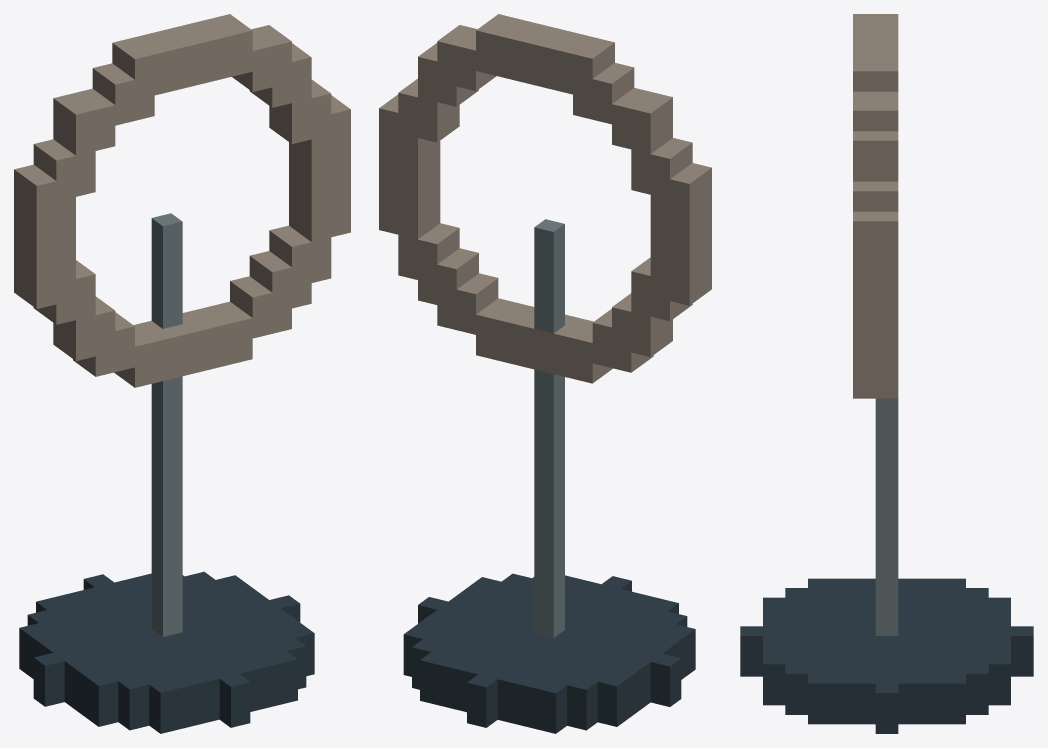
File: photography-14.glb
The picture shows the model from 3 angles, left to right: view 1: azimuth 30°, elevation 25°; view 2: azimuth 150°, elevation 25°; view 3: azimuth 270°, elevation 25°; orthographic projection.
Parts seen in each view (by area): view 1: Reflector disc; view 2: Reflector disc; view 3: Reflector disc.
Boxes of the visible parts, box(x1,y1,x2,y2) form: Reflector disc: box(14, 14, 350, 733); Reflector disc: box(379, 14, 711, 733); Reflector disc: box(740, 14, 1033, 733).
Size of the model in its own units: 1.28 by 2.48 by 1.04.
